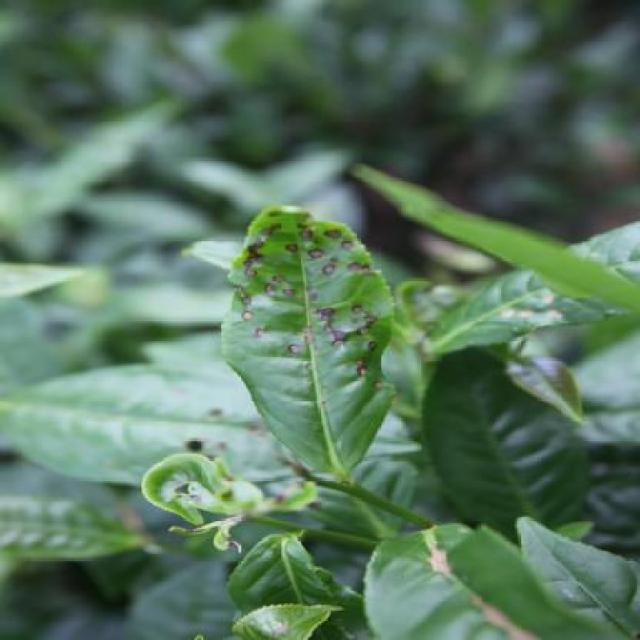Tea Mosquito bug infested leaf: (212, 195, 398, 512)
